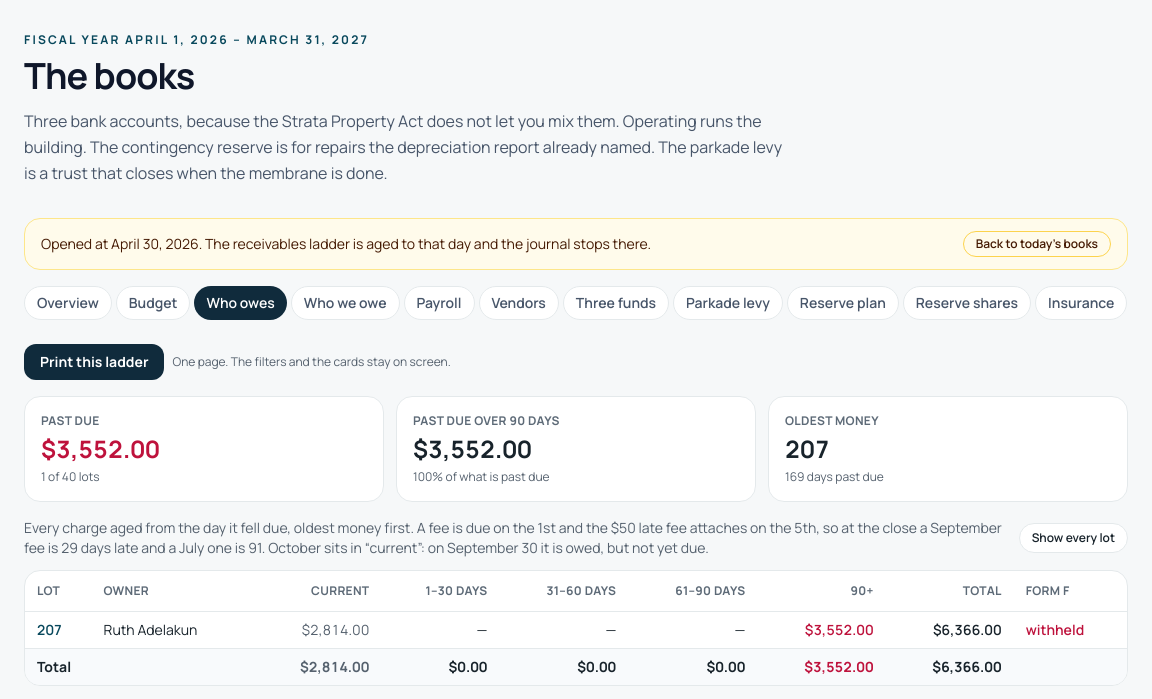
Test: /accounting?period= › keeps the budget and the payables at the close, and says so
Click the button "Overview" at (68, 303), box [24,286,112,320]
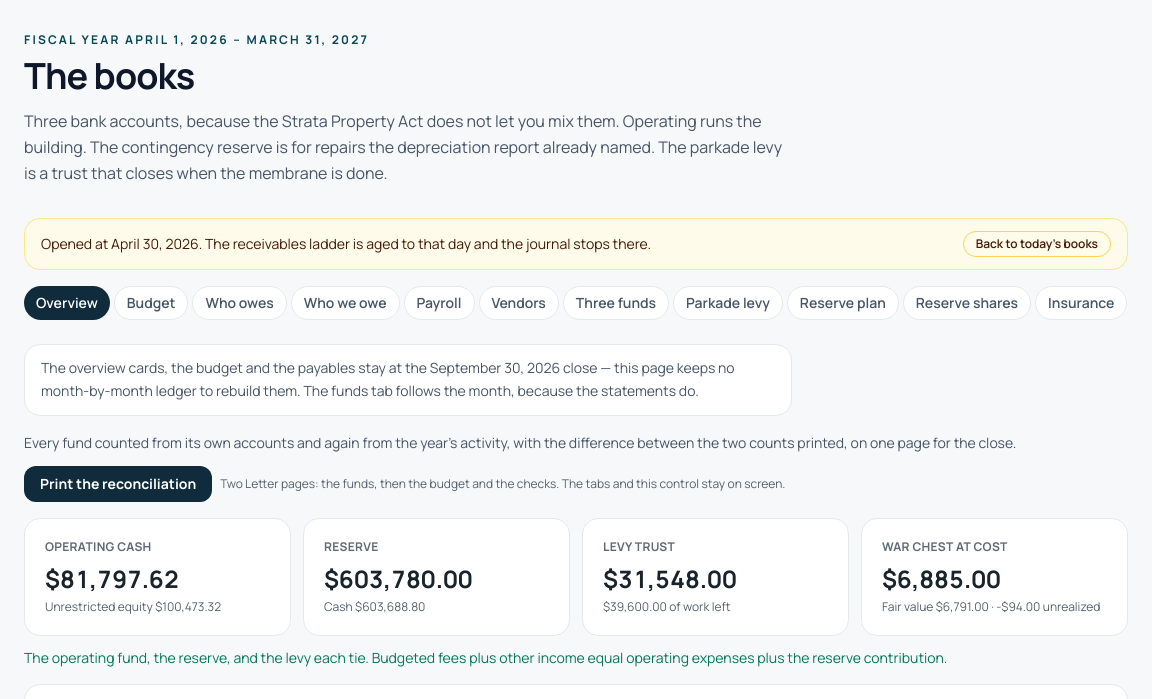
Expected: the text "Opened at April 30, 2026" is shown, [41,234,651,253]
Result: the text "The overview cards, the budget and the payables stay at the September 30, 2026 close" is shown at [41,358,735,400]
